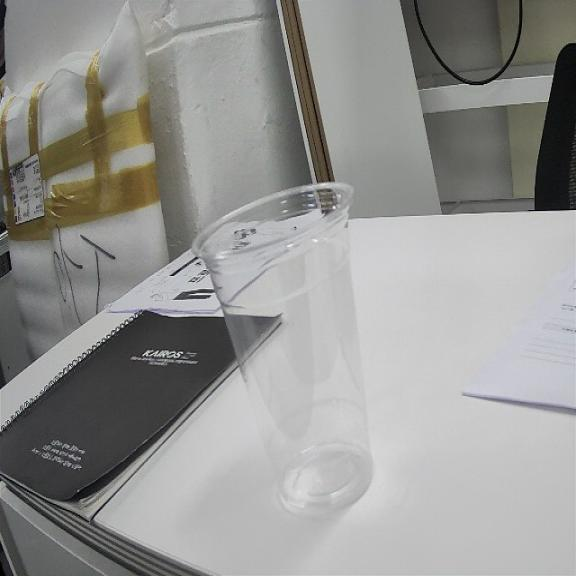Plastik: (194, 183, 372, 513)
